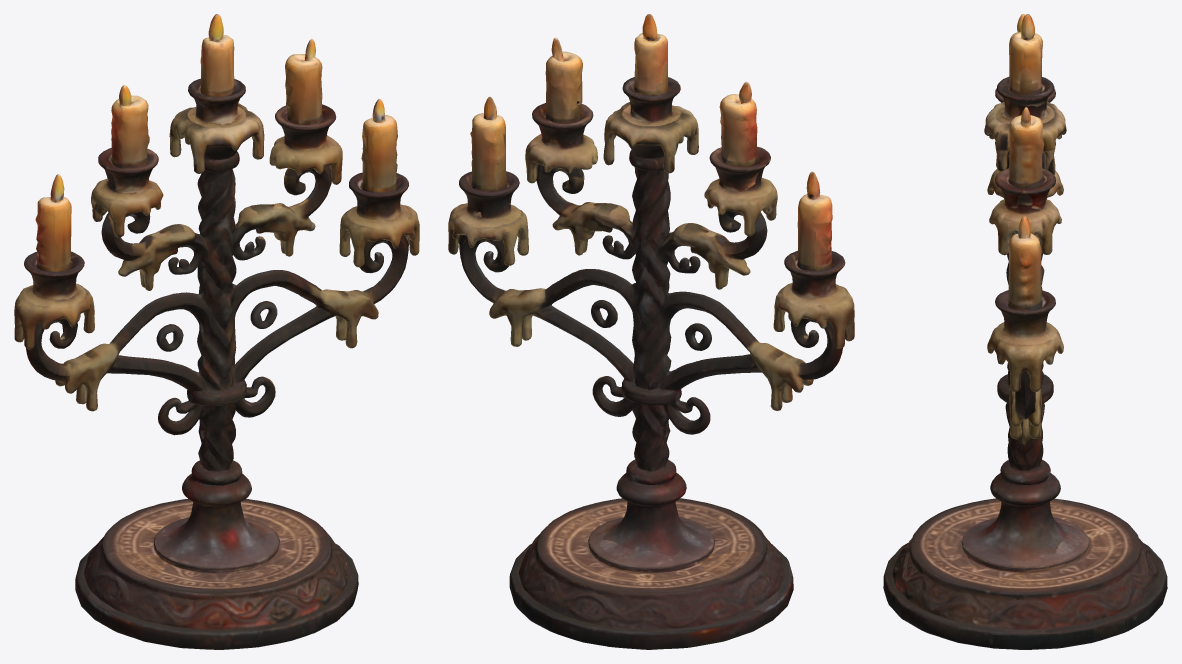
File: melted-five-arm-candelabra-optimized.glb
3 views of the same model, side by side, from view 1: azimuth 30°, elevation 25°; view 2: azimuth 150°, elevation 25°; view 3: azimuth 270°, elevation 25° (orthographic).
Visible parts, largest first — view 1: geometry_0; view 2: geometry_0; view 3: geometry_0.
Boxes of the visible parts, box(x1,y1,x2,y2) form: geometry_0: box(14, 14, 419, 649); geometry_0: box(448, 14, 854, 649); geometry_0: box(883, 14, 1167, 649).
Size of the model in its own units: 0.4696 by 0.65 by 0.2899.
1 material, 1 textured.
